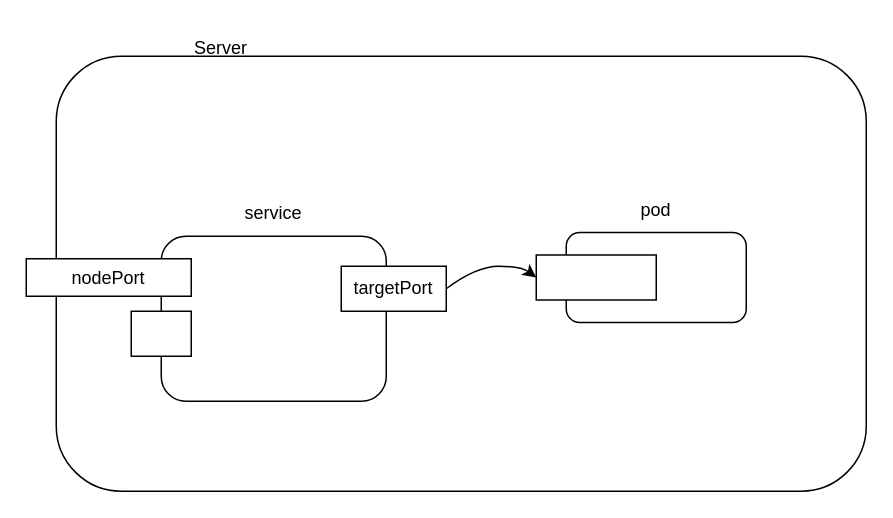
The diagram is 893 pixels wide and 518 high, and some of its shapes have lost their labels. Each missing label, with the centre of its shape:
containPort: point (595, 277)
port: point (160, 333)
